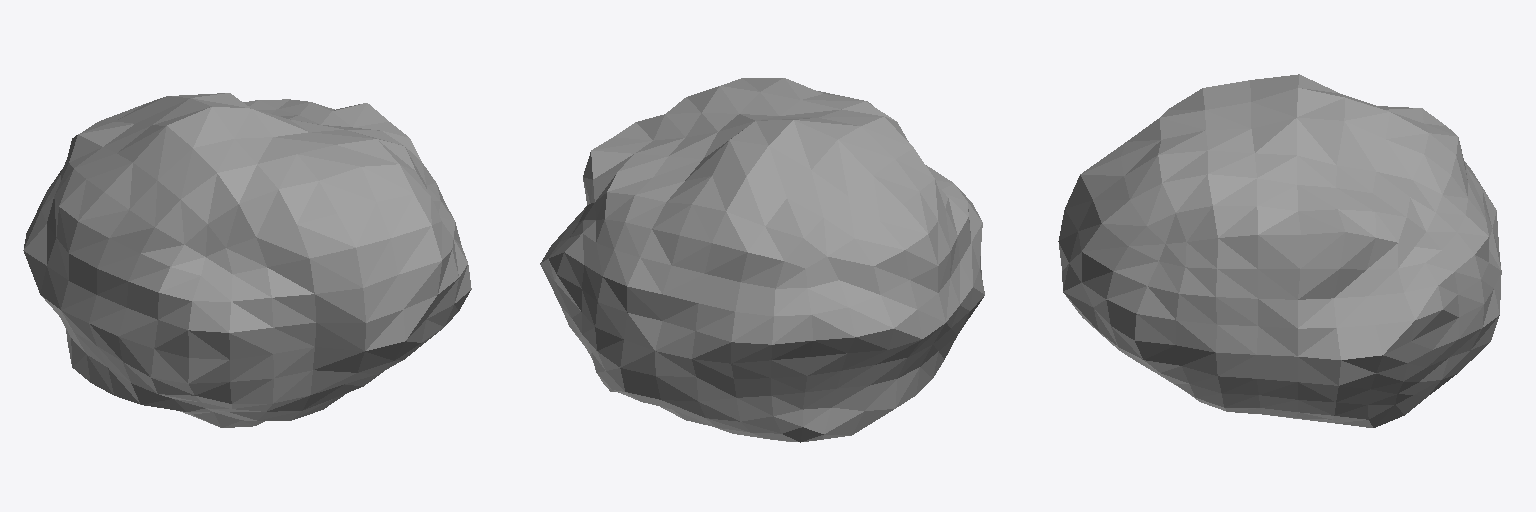
Rendered from Rock.obj.
3 renders of one model, left to right at view 1: azimuth 30°, elevation 25°; view 2: azimuth 150°, elevation 25°; view 3: azimuth 270°, elevation 25°, orthographic.
Parts seen in each view (by area): view 1: Mesh; view 2: Mesh; view 3: Mesh.
Part boxes in pixels (x1,y1,x2,y2): Mesh: (23,93,471,427); Mesh: (540,78,984,442); Mesh: (1058,74,1501,427).
Size of the model in its own units: 1.94 by 1.5 by 1.99.